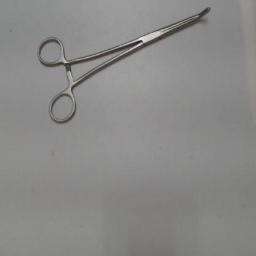Lahey Forceps: (35, 2, 215, 128)
